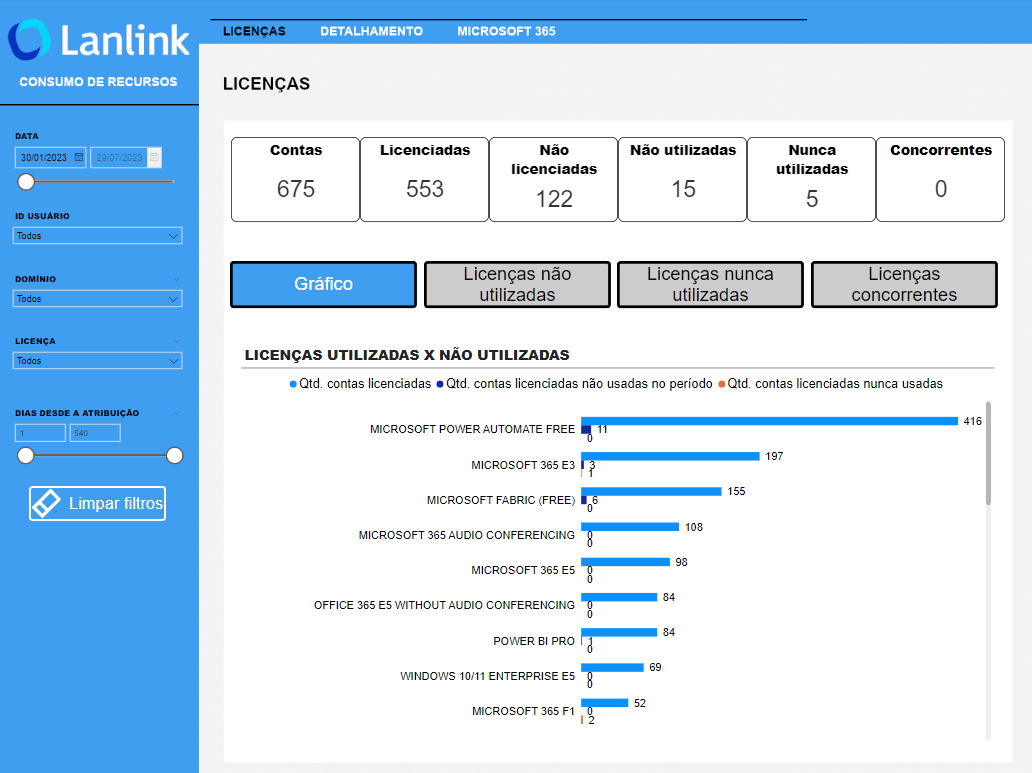

This screenshot's page, from the dashboard's own definition file:
{"tool":"powerbi","page":{"name":"LICENÇAS","canvas":[1508,1184],"ordinal":0},"visuals":[{"type":"actionButton","title":"Button ativado licenças concorrentes","box":[1185,385,272.5,68.8],"z":1000},{"type":"actionButton","title":"Button ativado licenças nunca utilizadas","box":[902.5,385,272.5,68.8],"z":4000},{"type":"actionButton","title":"Button desativado licenças não utilizadas período","box":[621,385,272.5,68.8],"z":8000},{"type":"clusteredBarChart","title":"LICENÇAS UTILIZADAS X NÃO UTILIZADAS","fields":{"Y":["fatOffice365.Qtd. contas","fatOffice365.Qtd. contas licenciadas nunca usadas no período","fatOffice365.Qtd. contas licenciadas nunca usadas"],"Category":["dimLicenca.Licença"]},"box":[355,508,1098.8,580],"z":9000},{"type":"actionButton","title":"Button ativado gráfico","box":[338.8,385,272.5,68.8],"z":10000},{"type":"advanceCardE03760C5AB684758B56AA29F9E6C257B","title":"Concorrentes","fields":{"mainMeasure":["fatOffice365.Qtd. licenças concorrentes"]},"box":[1280.2,204.1,188,123.9],"z":11500},{"type":"advanceCardE03760C5AB684758B56AA29F9E6C257B","title":"Nunca utilizadas","fields":{"mainMeasure":["fatOffice365.Qtd. contas licenciadas nunca usadas"]},"box":[1092.1,204.1,188,123.9],"z":12000},{"type":"advanceCardE03760C5AB684758B56AA29F9E6C257B","title":"Não utilizadas","fields":{"mainMeasure":["fatOffice365.Qtd. contas licenciadas não usadas no período"]},"box":[904,204.1,188,123.9],"z":13000},{"type":"advanceCardE03760C5AB684758B56AA29F9E6C257B","title":"Não licenciadas","fields":{"mainMeasure":["fatOffice365.Qtd. contas não licenciadas"]},"box":[715.9,204.1,188,123.9],"z":14000},{"type":"advanceCardE03760C5AB684758B56AA29F9E6C257B","title":"Licenciadas","fields":{"mainMeasure":["fatOffice365.Qtd. contas licenciadas"]},"box":[527.8,204.1,188,123.9],"z":15000},{"type":"advanceCardE03760C5AB684758B56AA29F9E6C257B","title":"Contas","fields":{"mainMeasure":["fatOffice365.Qtd. funcionários"]},"box":[339.7,204.1,188,123.9],"z":16000},{"type":"slicer","title":"Slicer licença","fields":{"Values":["dimLicenca.Licença"]},"box":[11.8,488.2,267.3,80.9],"z":17000},{"type":"slicer","title":"Slicer domínio","fields":{"Values":["dimUsuario.Domínio"]},"box":[12.2,397.8,266.7,81.1],"z":18000},{"type":"slicer","title":"Slicer id usuário","fields":{"Values":["dimUsuario.ID usuário1"]},"box":[12.2,305.6,266.7,81.1],"z":19000},{"type":"slicer","title":"Slicer data","fields":{"Values":["dimCalendario.Data"]},"box":[12,189.1,266.4,105.5],"z":20000},{"type":"actionButton","title":"Button limpar filtros","box":[45.2,713,199.8,51],"z":21000},{"type":"actionButton","title":"Button microsoft 365","box":[660.8,36.7,160,32],"z":23000},{"type":"actionButton","title":"Button detalhamento","box":[463.6,36.4,162.9,32.1],"z":24000},{"type":"slicer","title":"Slicer data","fields":{"Values":["fatOffice365.Qtd. dias desde atribuição O365 2"]},"box":[11.7,593.5,266.8,105],"z":26000}]}

Visuals, with their boxes on the page's 1508x1184 design canvas (x1, y1, x2, y2). These are canvas units, not pixel positions in the 1032x773 screenshot, which may show the page scaled, cropped or inside an application window:
"Button ativado licenças concorrentes" actionButton: 1185:385:1458:454
"Button ativado licenças nunca utilizadas" actionButton: 902:385:1175:454
"Button desativado licenças não utilizadas período" actionButton: 621:385:894:454
"LICENÇAS UTILIZADAS X NÃO UTILIZADAS" clusteredBarChart: 355:508:1454:1088
"Button ativado gráfico" actionButton: 339:385:611:454
"Concorrentes" advanceCardE03760C5AB684758B56AA29F9E6C257B: 1280:204:1468:328
"Nunca utilizadas" advanceCardE03760C5AB684758B56AA29F9E6C257B: 1092:204:1280:328
"Não utilizadas" advanceCardE03760C5AB684758B56AA29F9E6C257B: 904:204:1092:328
"Não licenciadas" advanceCardE03760C5AB684758B56AA29F9E6C257B: 716:204:904:328
"Licenciadas" advanceCardE03760C5AB684758B56AA29F9E6C257B: 528:204:716:328
"Contas" advanceCardE03760C5AB684758B56AA29F9E6C257B: 340:204:528:328
"Slicer licença" slicer: 12:488:279:569
"Slicer domínio" slicer: 12:398:279:479
"Slicer id usuário" slicer: 12:306:279:387
"Slicer data" slicer: 12:189:278:295
"Button limpar filtros" actionButton: 45:713:245:764
"Button microsoft 365" actionButton: 661:37:821:69
"Button detalhamento" actionButton: 464:36:626:68
"Slicer data" slicer: 12:594:278:698
